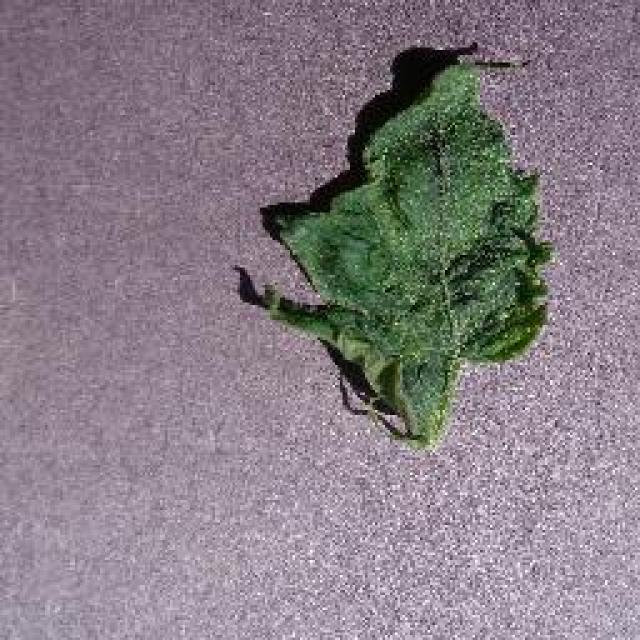Tomato spider mites leaf: (265, 48, 567, 452)
